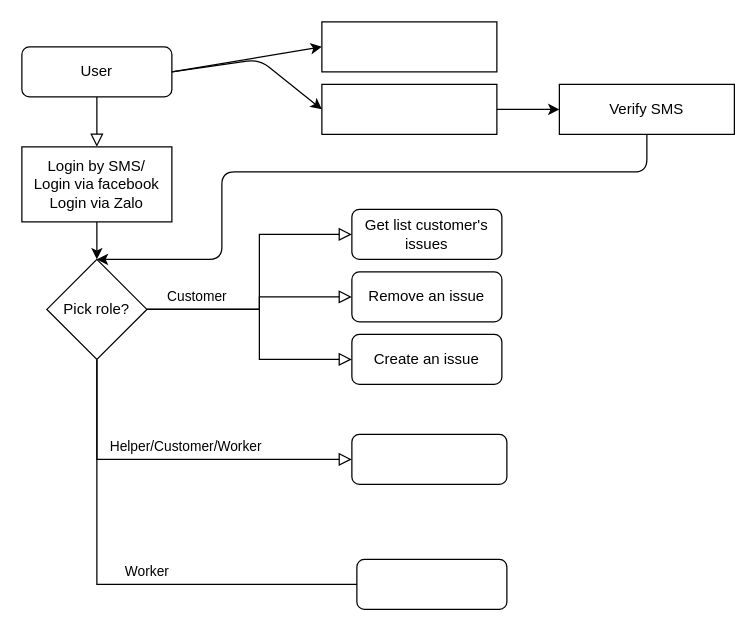
Some shapes in this 756 by 631 pixel diagram are drawn without their labels. Each missing label, with the centre of its shape:
chat/upload attachments: the point at 429,458
handle an issues: the point at 431,583
Register new account: the point at 409,108
Reset password: the point at 409,46
